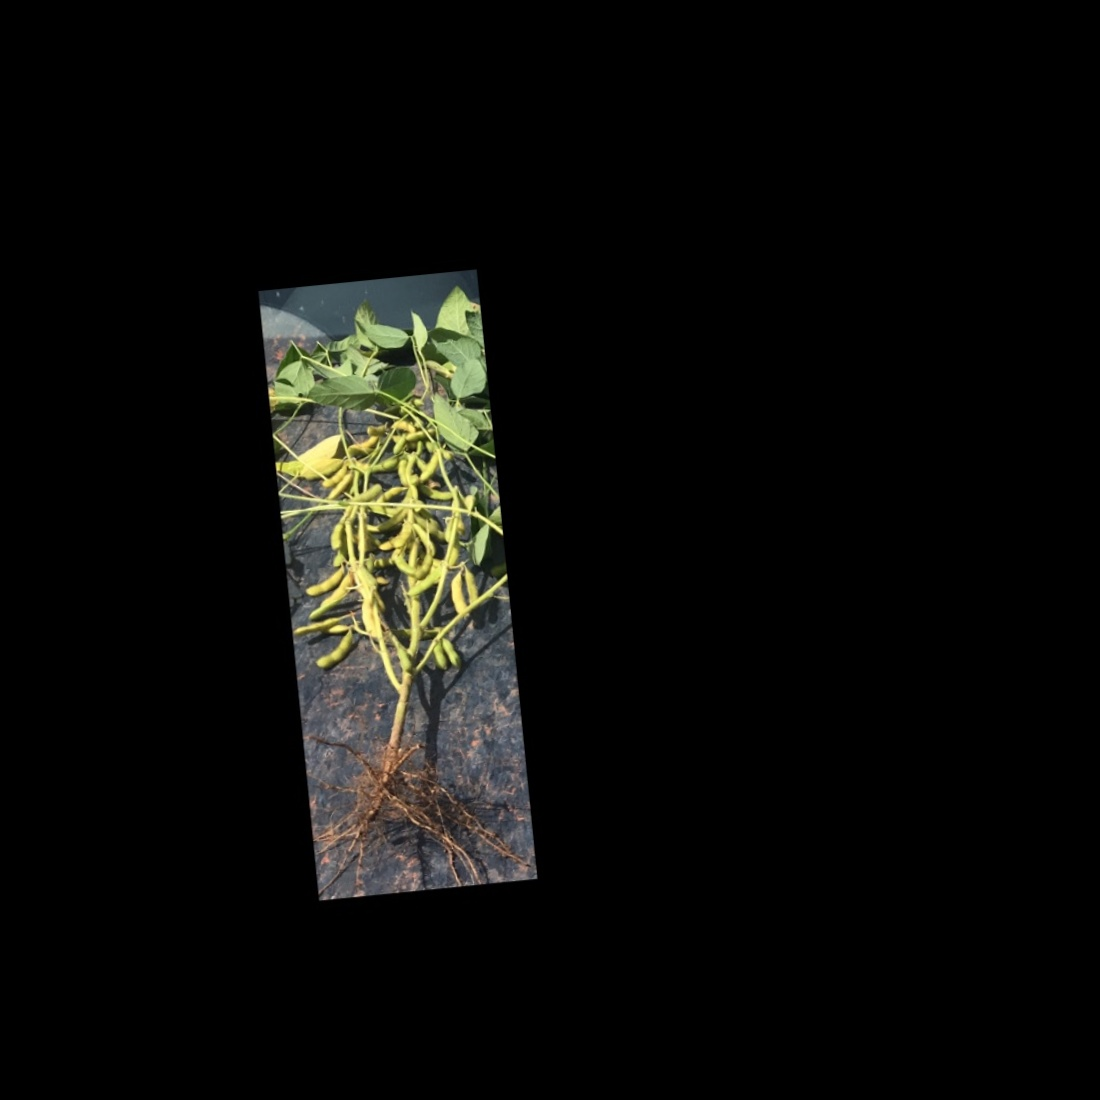pod: (304, 575, 357, 622), (310, 627, 359, 673), (403, 558, 451, 599), (300, 564, 348, 600), (291, 611, 353, 636), (414, 447, 446, 488), (413, 479, 459, 507), (325, 469, 360, 501), (440, 632, 464, 673), (319, 462, 351, 490), (464, 564, 483, 607), (413, 552, 436, 581), (431, 636, 448, 674), (394, 642, 413, 673)
soy: (266, 296, 533, 890)
